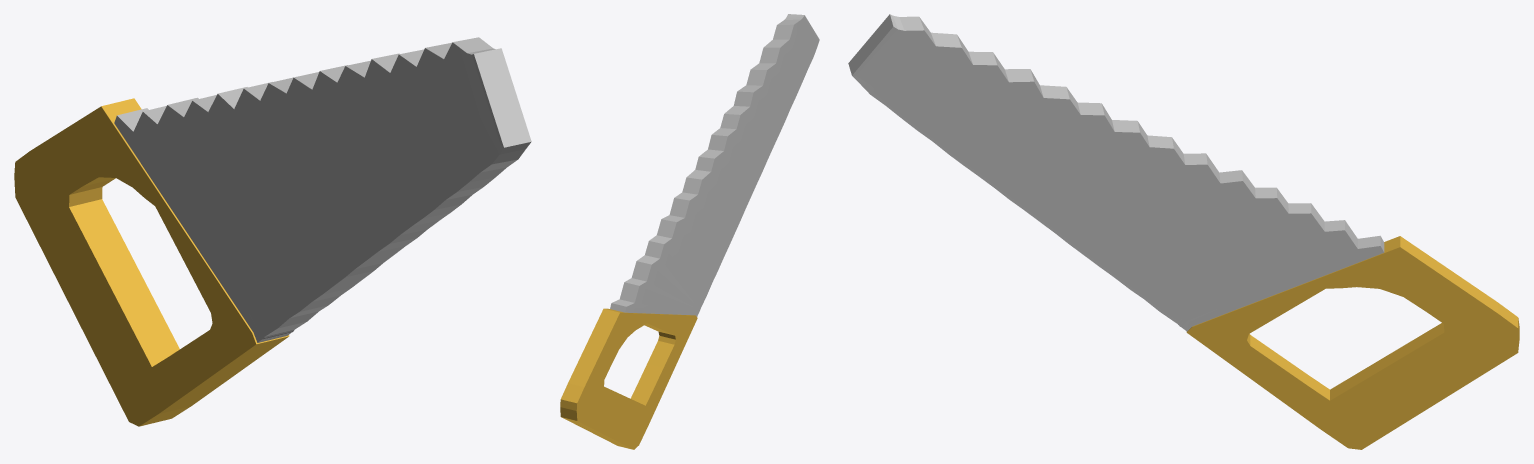
Rendered from plataforma_serrucho.fbx.
3 views of the same model, side by side, from view 1: azimuth 30°, elevation 25°; view 2: azimuth 150°, elevation 25°; view 3: azimuth 270°, elevation 25° (orthographic). The views are drawn at different scales.
Parts seen in each view (by area): view 1: Cube.005; view 2: Cube.005; view 3: Cube.005.
Boxes of the visible parts, x1,y1,x2,y2 form: Cube.005: (14, 37, 531, 426); Cube.005: (560, 14, 819, 449); Cube.005: (848, 14, 1519, 449).
Bounding box in the file's own units: 3.42 × 60.5 × 86.5.
